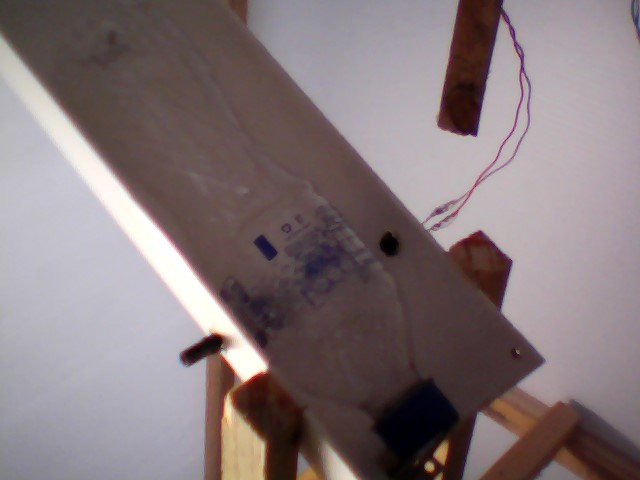plastico: (32, 1, 466, 472)
